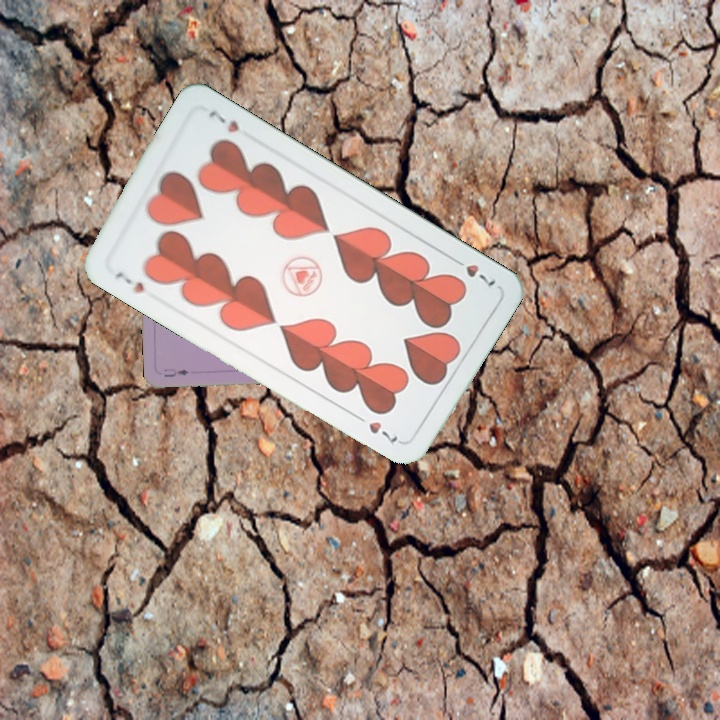EU: (160, 364, 191, 380)
H7: (447, 253, 499, 290), (111, 266, 148, 297)
